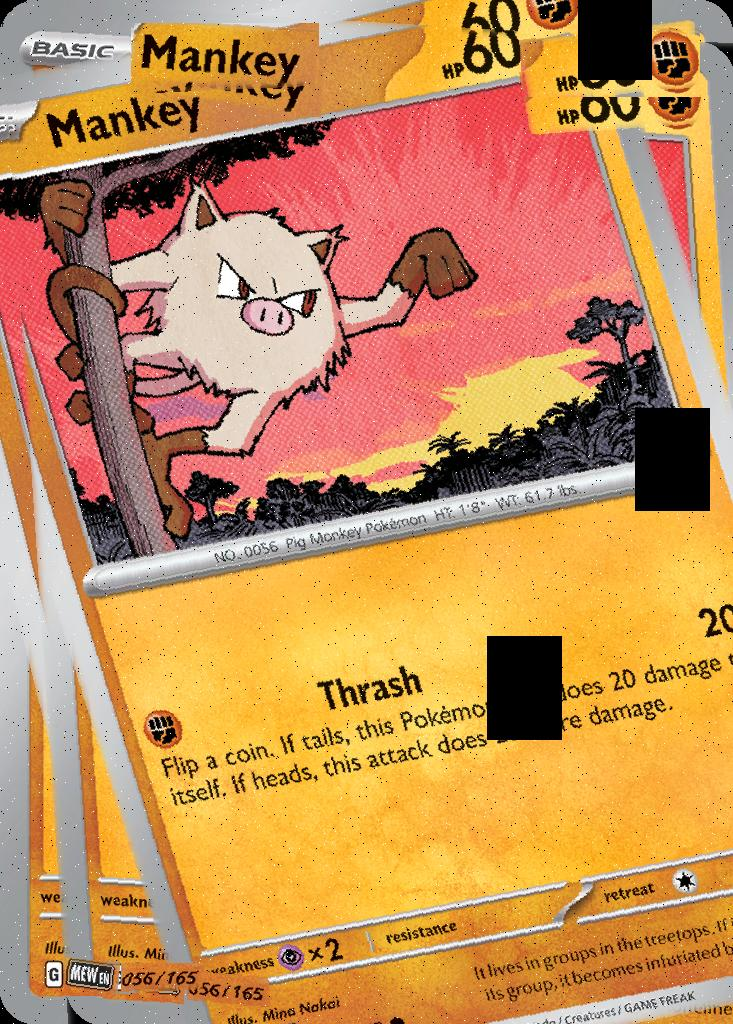card: (0, 0, 733, 1024)
hp: (518, 25, 700, 98)
name: (132, 24, 320, 95)
set num: (121, 964, 204, 995)
set symbol: (65, 959, 120, 997)
